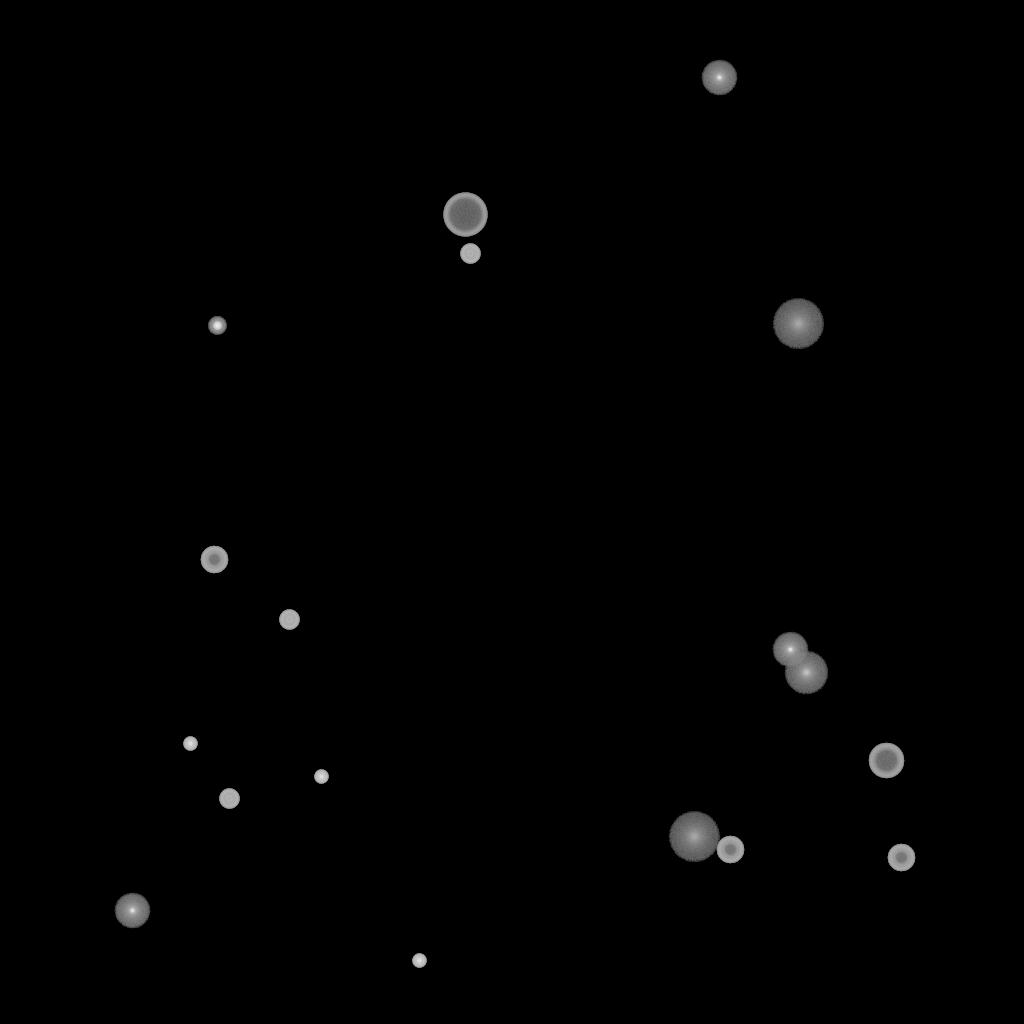depth:-20: (208, 317, 226, 335)
depth:-30: (183, 737, 197, 751), (412, 954, 426, 968), (314, 770, 328, 784)
depth:-40: (279, 610, 299, 630), (219, 789, 239, 809), (460, 244, 480, 264)
depth:-50: (887, 844, 915, 872), (716, 836, 744, 864), (200, 546, 228, 574)
depth:-60: (868, 743, 904, 779)
depth:-70: (443, 193, 487, 237)
depth:0: (772, 632, 808, 668), (114, 893, 150, 929), (701, 60, 737, 96)
depth:10: (784, 651, 828, 695)
depth:20: (668, 812, 720, 862), (772, 299, 824, 349)
